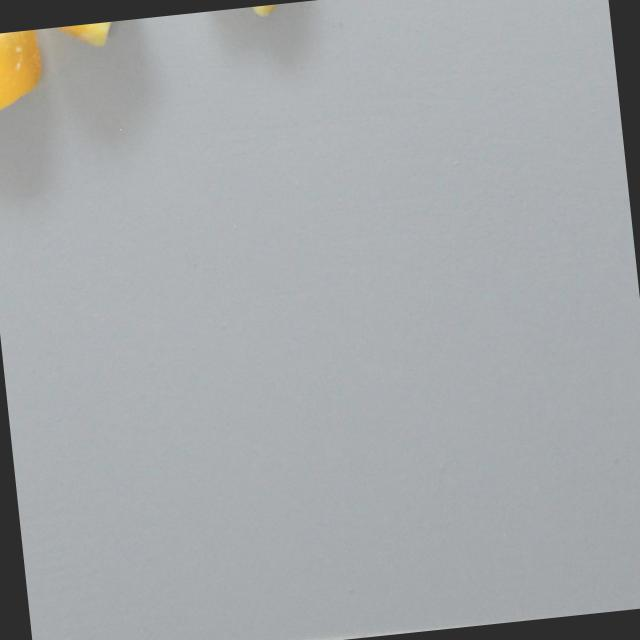pelicula: (30, 17, 143, 54), (0, 28, 44, 114), (203, 0, 313, 24)
